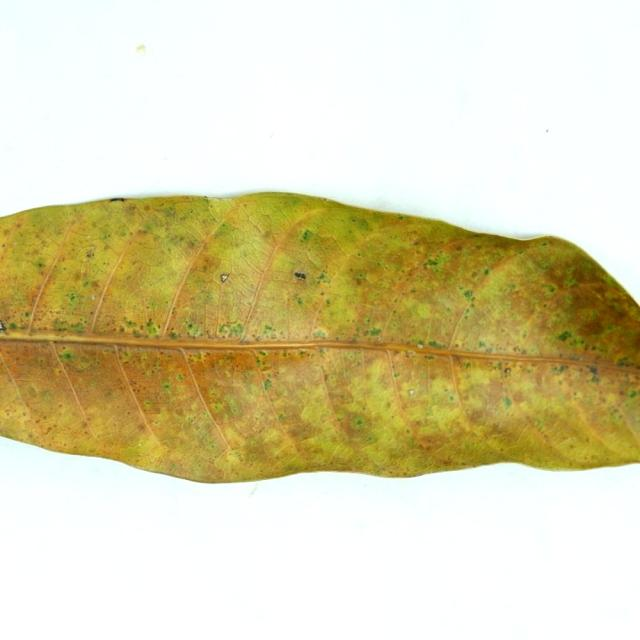Mango: (0, 193, 639, 482)
Powdery_Mildew: (448, 357, 526, 452), (199, 356, 280, 424), (131, 203, 203, 242), (573, 301, 624, 341), (297, 228, 346, 265), (57, 344, 103, 376), (414, 429, 459, 456), (160, 228, 195, 256), (299, 400, 332, 428), (210, 220, 240, 243), (136, 394, 164, 416), (286, 420, 315, 440), (424, 252, 451, 272), (412, 302, 436, 323), (216, 320, 244, 338), (305, 249, 327, 270), (52, 317, 80, 333), (253, 351, 271, 372), (65, 291, 83, 310), (336, 388, 355, 405), (350, 416, 370, 431), (225, 396, 241, 414), (353, 216, 370, 232), (618, 354, 637, 368), (185, 322, 202, 337), (225, 450, 243, 464), (566, 334, 585, 347), (145, 319, 160, 335), (511, 345, 531, 355), (425, 339, 444, 349), (557, 330, 572, 342), (210, 400, 224, 412), (316, 272, 330, 284), (311, 328, 327, 338), (588, 370, 600, 383), (218, 356, 232, 367), (542, 284, 556, 295), (424, 258, 439, 268), (366, 327, 381, 336), (301, 230, 312, 242), (263, 324, 274, 335), (292, 294, 303, 305), (355, 271, 367, 281), (262, 379, 272, 391), (502, 396, 512, 408), (60, 351, 73, 360), (85, 248, 95, 259), (463, 290, 474, 300), (462, 308, 471, 318), (589, 365, 598, 375), (627, 389, 637, 398), (206, 443, 216, 451), (8, 322, 19, 329), (471, 270, 480, 278), (68, 293, 77, 301), (424, 354, 435, 360), (143, 400, 152, 407), (210, 390, 218, 397), (176, 373, 184, 380), (162, 383, 170, 390), (478, 340, 486, 347), (36, 261, 44, 268), (259, 350, 267, 357), (483, 268, 490, 276), (324, 299, 331, 305), (23, 311, 30, 317), (35, 418, 41, 424), (393, 372, 399, 378), (410, 288, 416, 294), (449, 395, 454, 401)
